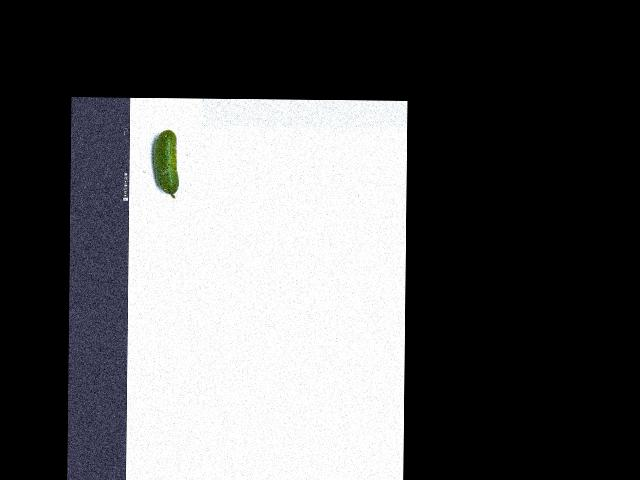cucumber: (152, 129, 179, 198)
